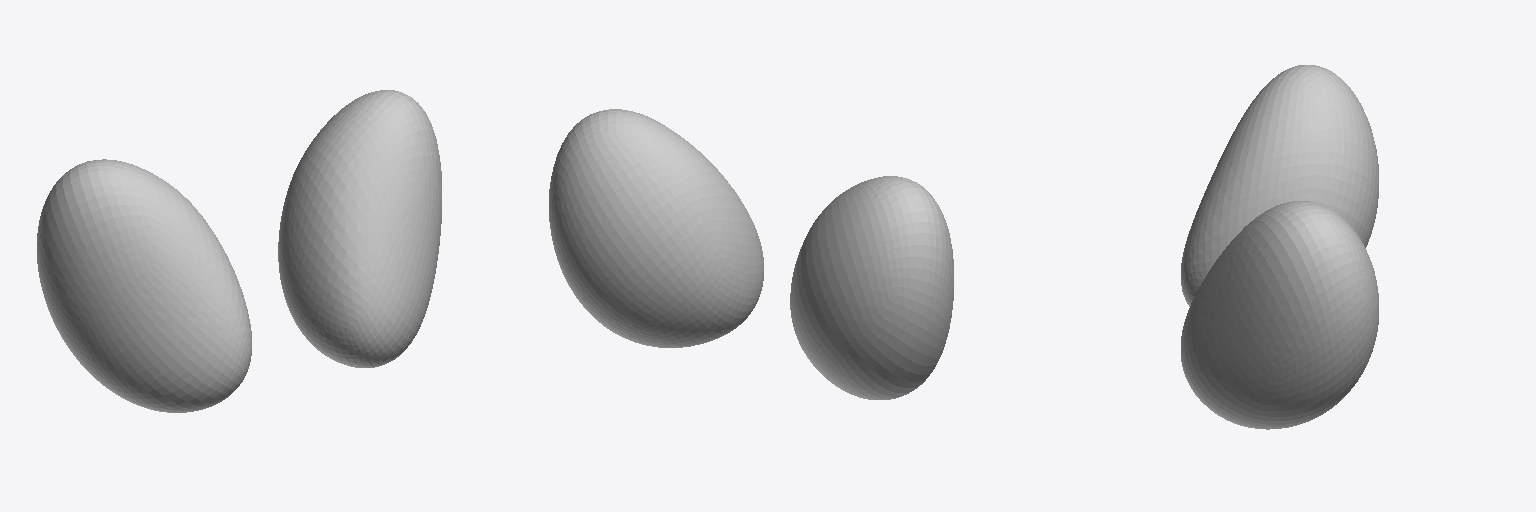
File: SubTool-1-10233600.OBJ
3 renders of one model, left to right at view 1: azimuth 30°, elevation 25°; view 2: azimuth 150°, elevation 25°; view 3: azimuth 270°, elevation 25°, orthographic.
Visible parts, largest first — view 1: Group13455; view 2: Group13455; view 3: Group13455.
Part boxes in pixels (x1,y1,x2,y2): Group13455: (37,90,441,412); Group13455: (549,109,953,399); Group13455: (1181,65,1378,429).
Bounding box in the file's own units: 0.7725 × 0.4489 × 0.344.